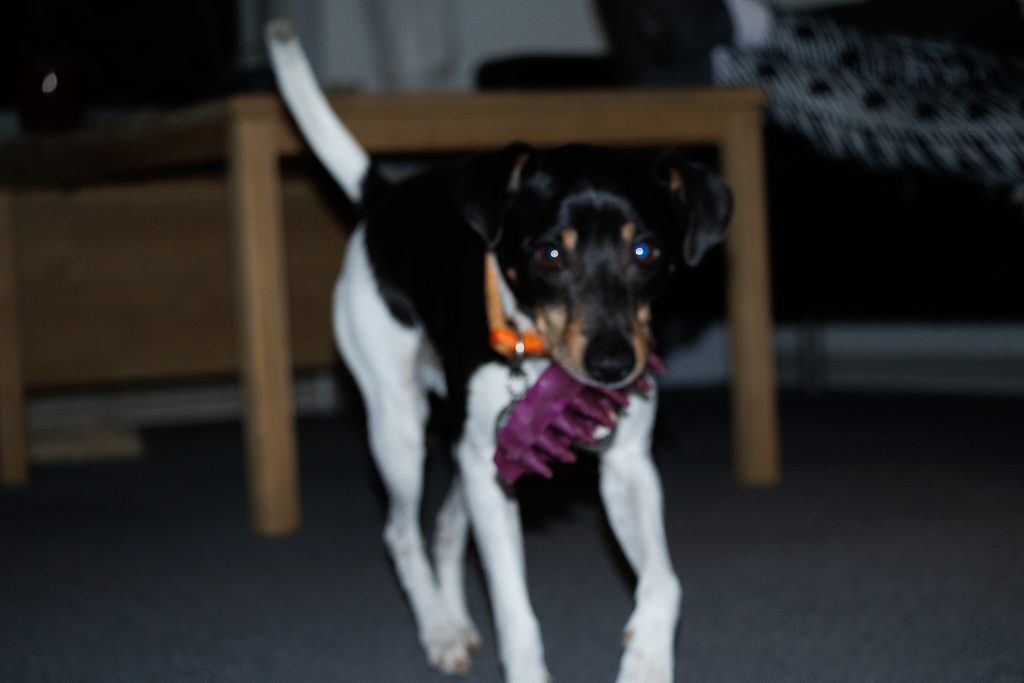Dog: (250, 7, 750, 683)
